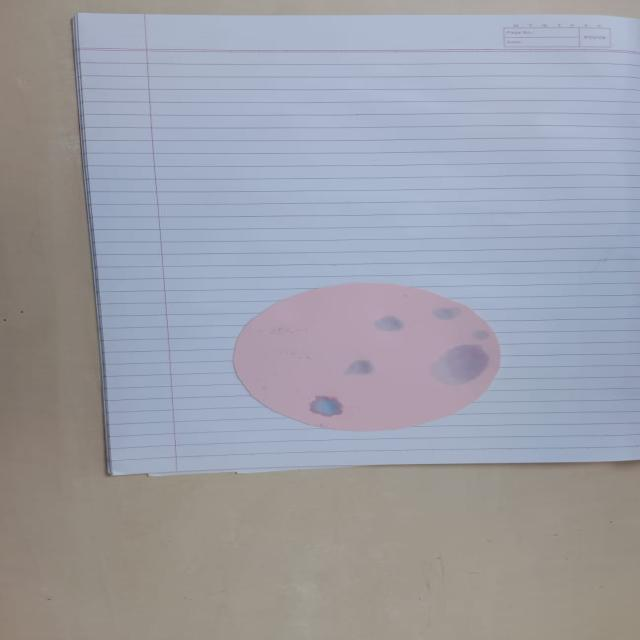BlueColor: (433, 345, 490, 386), (309, 396, 342, 417), (345, 360, 373, 376), (375, 316, 402, 331), (433, 307, 461, 320), (473, 329, 491, 342)
